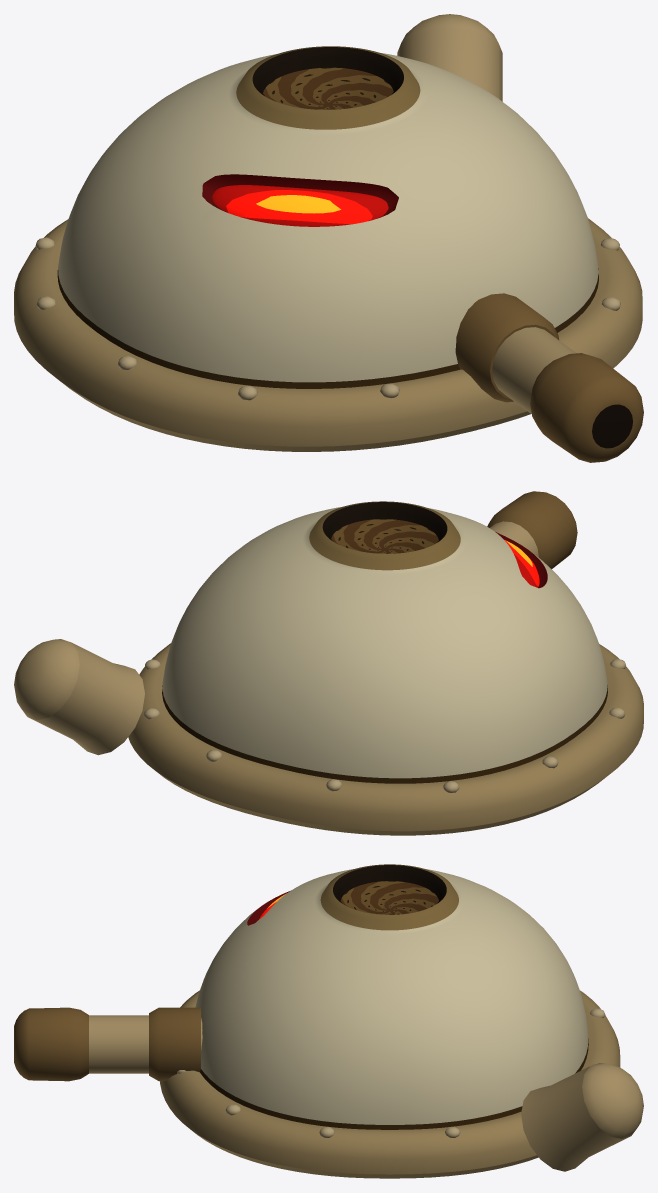
The model's file is bronze_whorl.glb.
The picture shows the model from 3 angles, top to bottom: view 1: azimuth 30°, elevation 25°; view 2: azimuth 150°, elevation 25°; view 3: azimuth 270°, elevation 25°; orthographic projection. The views are drawn at different scales.
Visible parts, largest first — view 1: dome, ring, muzzle, slit_glass, knob, collar, iris, barrel; view 2: dome, ring, knob, muzzle, iris, barrel, slit_glass; view 3: dome, ring, knob, muzzle, barrel, collar, iris.
Part boxes in pixels (bbox=[...]): dome: bbox=[57, 46, 598, 388]; ring: bbox=[14, 218, 642, 451]; muzzle: bbox=[530, 353, 643, 462]; slit_glass: bbox=[212, 185, 388, 226]; knob: bbox=[397, 14, 502, 101]; collar: bbox=[455, 293, 558, 402]; iris: bbox=[263, 67, 393, 109]; barrel: bbox=[492, 327, 576, 413]; dome: bbox=[162, 501, 607, 783]; ring: bbox=[128, 643, 643, 835]; knob: bbox=[14, 639, 144, 755]; muzzle: bbox=[487, 491, 577, 568]; iris: bbox=[331, 519, 438, 553]; barrel: bbox=[490, 521, 538, 557]; slit_glass: bbox=[504, 539, 539, 587]; dome: bbox=[195, 864, 588, 1129]; ring: bbox=[160, 990, 620, 1178]; knob: bbox=[521, 1063, 643, 1171]; muzzle: bbox=[14, 1007, 88, 1081]; barrel: bbox=[89, 1015, 202, 1073]; collar: bbox=[149, 1007, 200, 1081]; iris: bbox=[340, 881, 438, 914].
Size of the model in its own units: 18.22 by 7.51 by 22.42.
